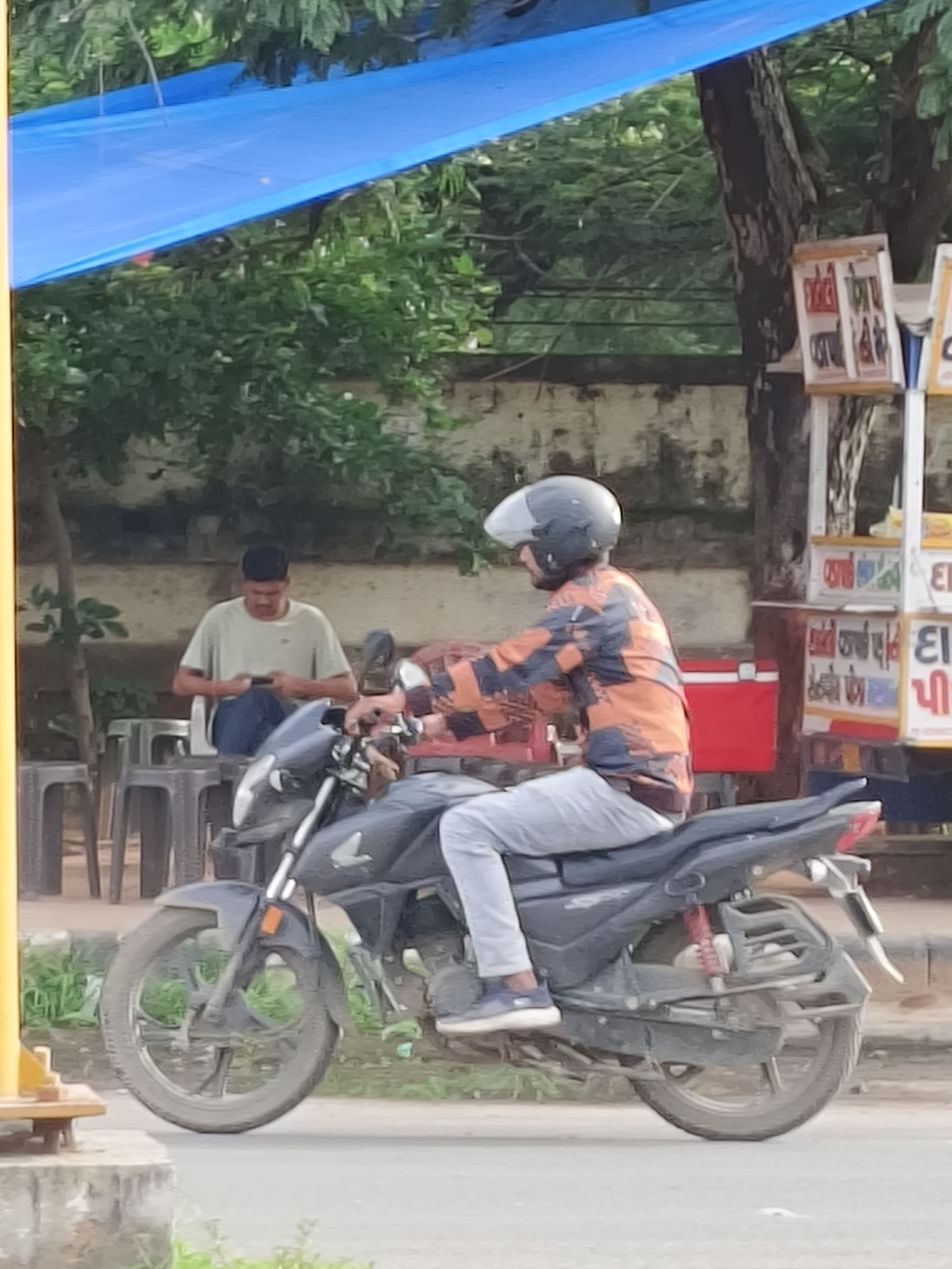BikeWithRider: (82, 459, 915, 1153)
Helmet: (474, 463, 634, 593)
